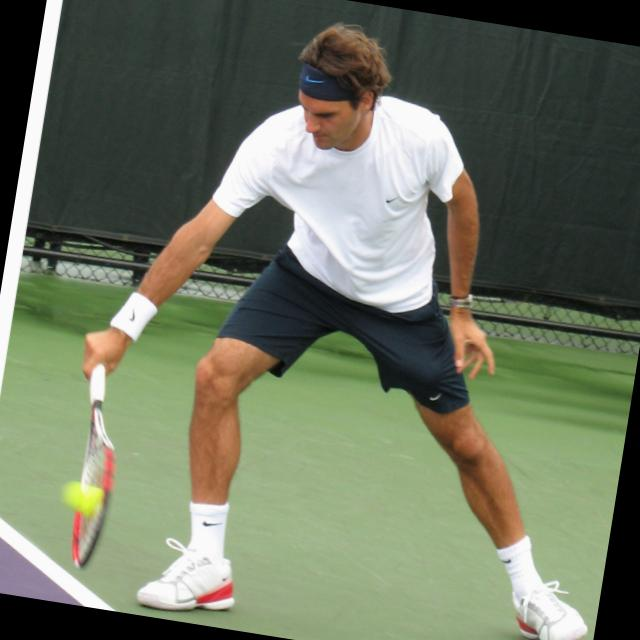Tennis Ball: (76, 483, 104, 518)
